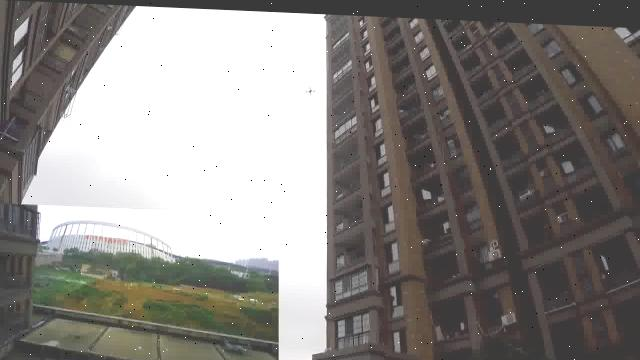drone: (303, 81, 317, 95)
